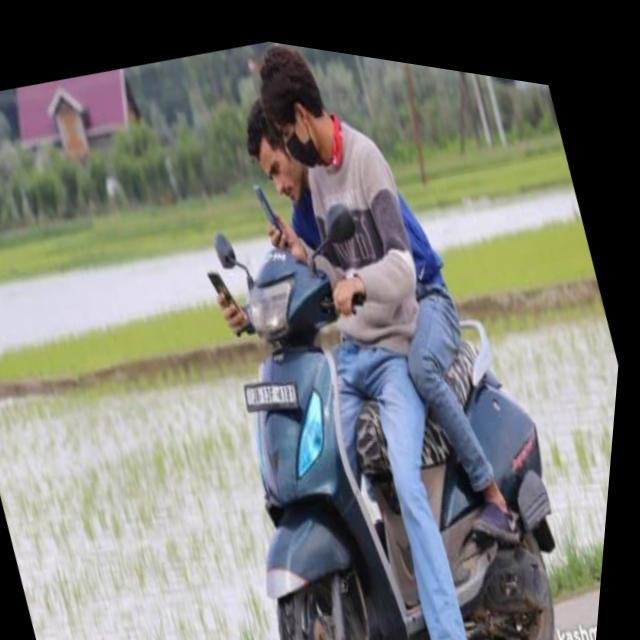Nonhelmet: (252, 39, 352, 171), (249, 107, 313, 209)
